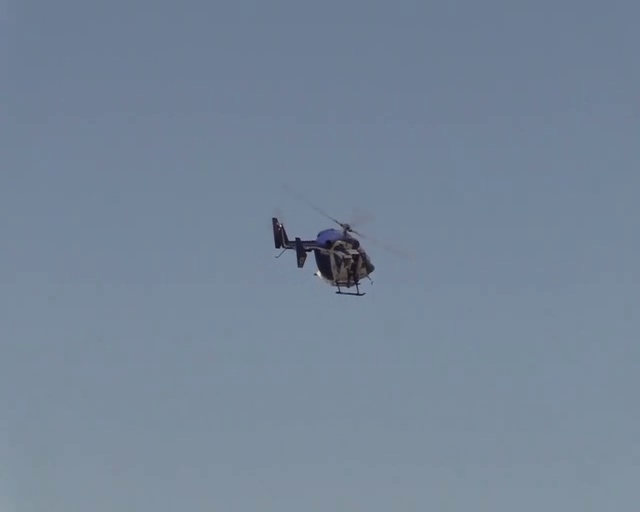HELICOPTER: (270, 180, 407, 296)
